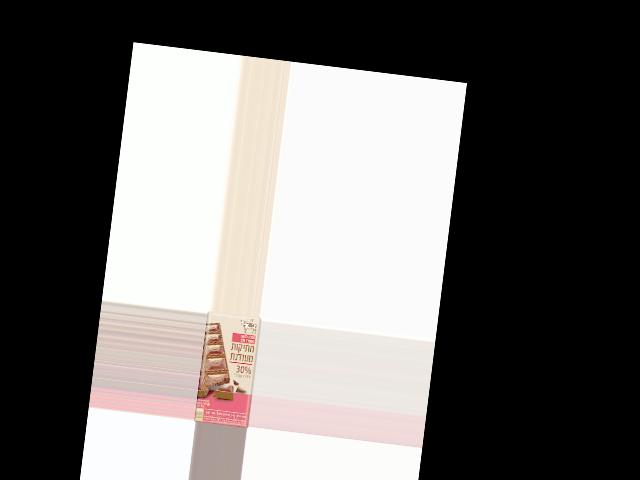chocolate: (194, 311, 262, 427)
